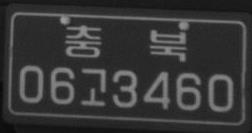0: (207, 72, 234, 113), (18, 64, 45, 103)
3: (112, 68, 138, 108)
4: (143, 71, 171, 110)
6: (49, 65, 76, 105), (175, 71, 201, 111)
고: (80, 66, 106, 107)
충북_D: (65, 24, 188, 62)
